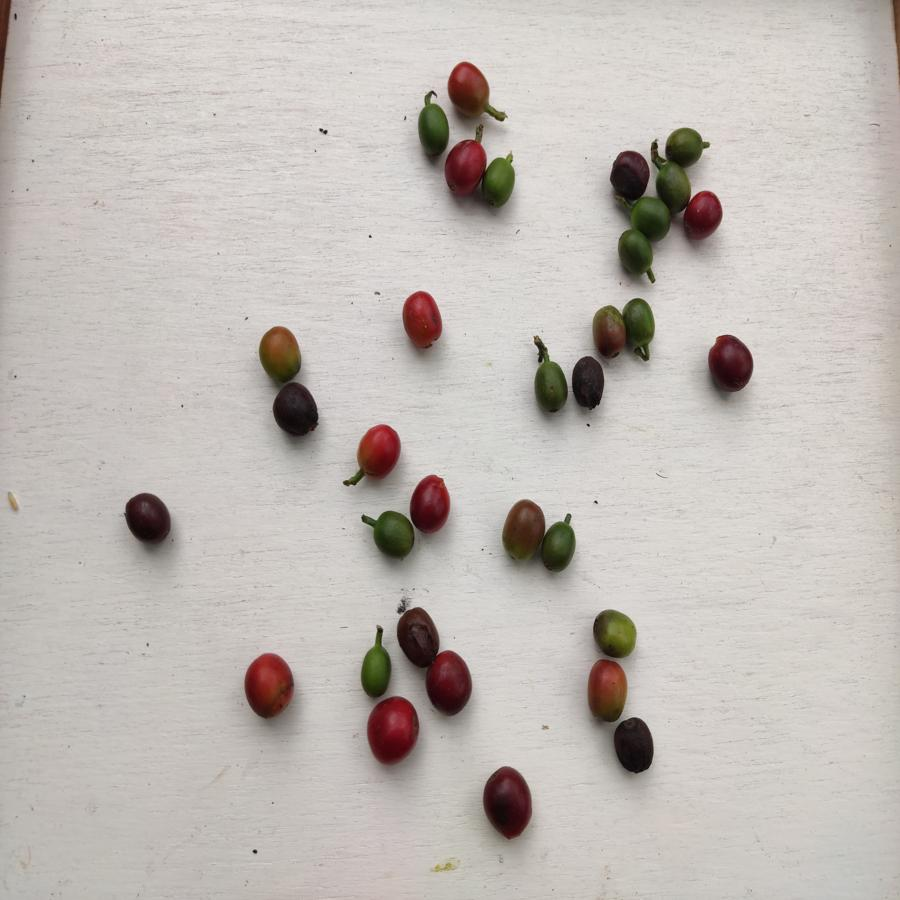Inmaduro: (590, 608, 641, 659), (530, 358, 572, 417), (373, 508, 414, 563), (627, 195, 676, 241), (542, 518, 578, 576), (356, 642, 394, 695), (615, 229, 656, 278), (415, 102, 451, 155), (664, 124, 709, 165), (626, 296, 658, 352), (484, 156, 518, 207), (656, 165, 692, 210)
Maduro: (241, 652, 301, 722), (365, 697, 425, 765), (401, 286, 446, 354), (443, 60, 493, 119), (355, 421, 402, 478), (409, 473, 452, 535), (446, 138, 485, 201)
Pinton: (498, 497, 545, 565), (255, 323, 307, 381), (587, 659, 629, 725), (589, 305, 628, 358)
Sobremaduro: (482, 765, 539, 842), (705, 332, 761, 395), (426, 652, 474, 717), (122, 491, 176, 547), (612, 715, 658, 780), (270, 382, 322, 438), (395, 606, 442, 665), (683, 191, 729, 242), (608, 149, 652, 199), (569, 357, 607, 412)
